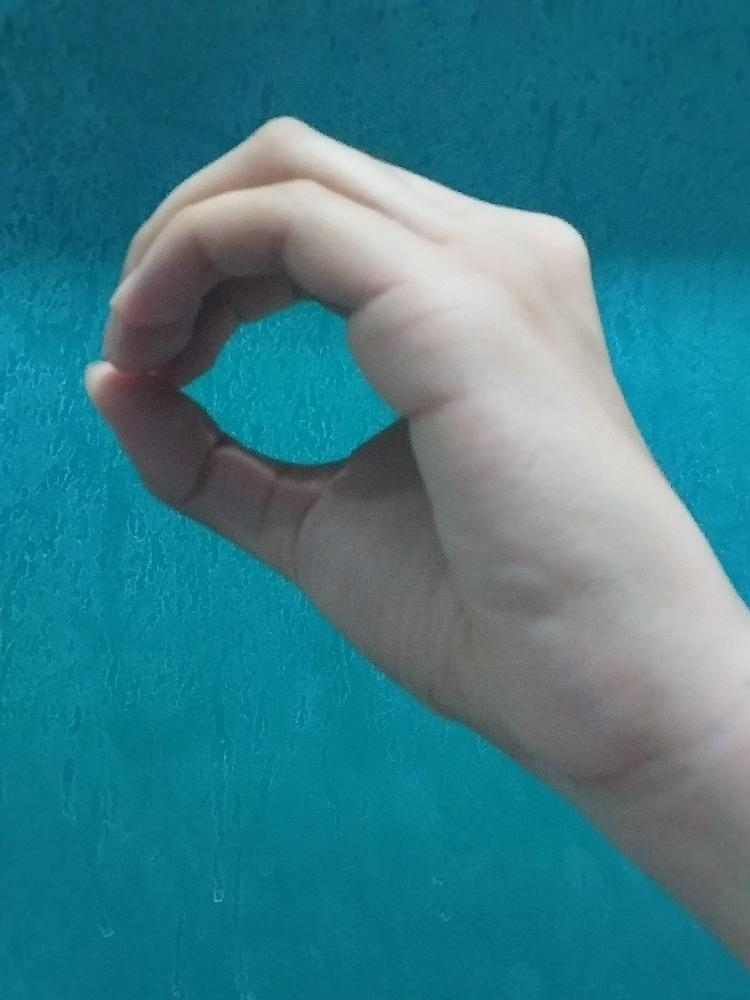o: (81, 105, 643, 785)
